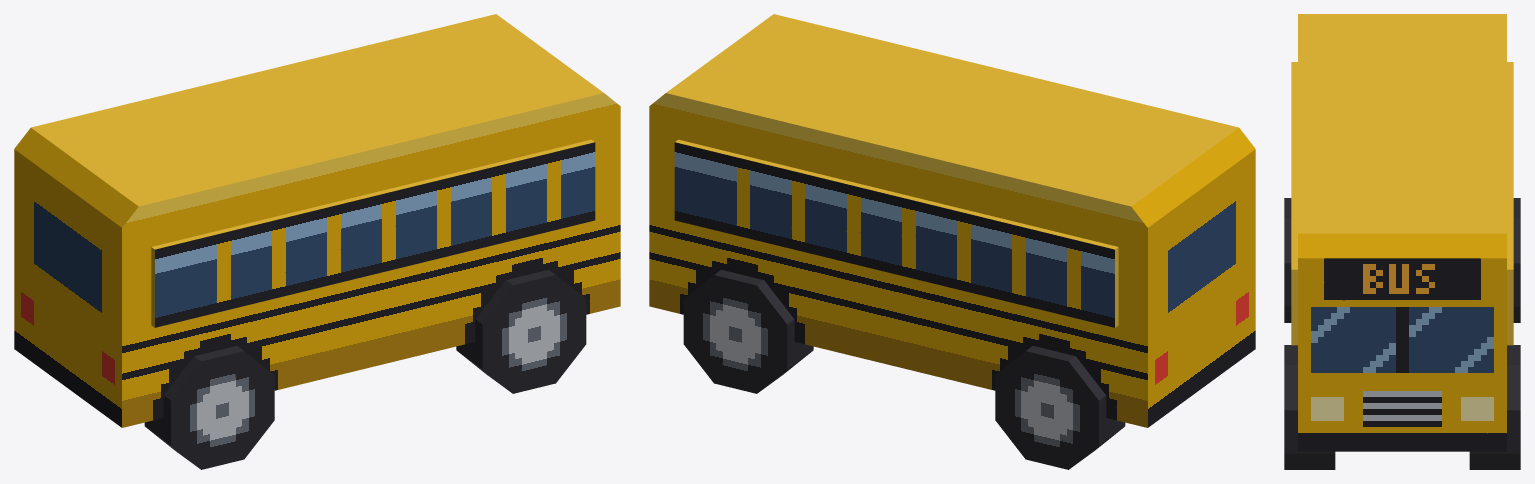
File: around-bus.glb
3 views of the same model, side by side, from view 1: azimuth 30°, elevation 25°; view 2: azimuth 150°, elevation 25°; view 3: azimuth 270°, elevation 25° (orthographic). The views are drawn at different scales.
Visible parts, largest first — view 1: around.bus; view 2: around.bus; view 3: around.bus.
Boxes of the visible parts, x1,y1,x2,y2 form: around.bus: (14,14,620,469); around.bus: (649,14,1255,469); around.bus: (1284,14,1520,469).
Size of the model in its own units: 1.72 by 0.8972 by 0.7325.
Materials: 8 (5 with a texture image).
